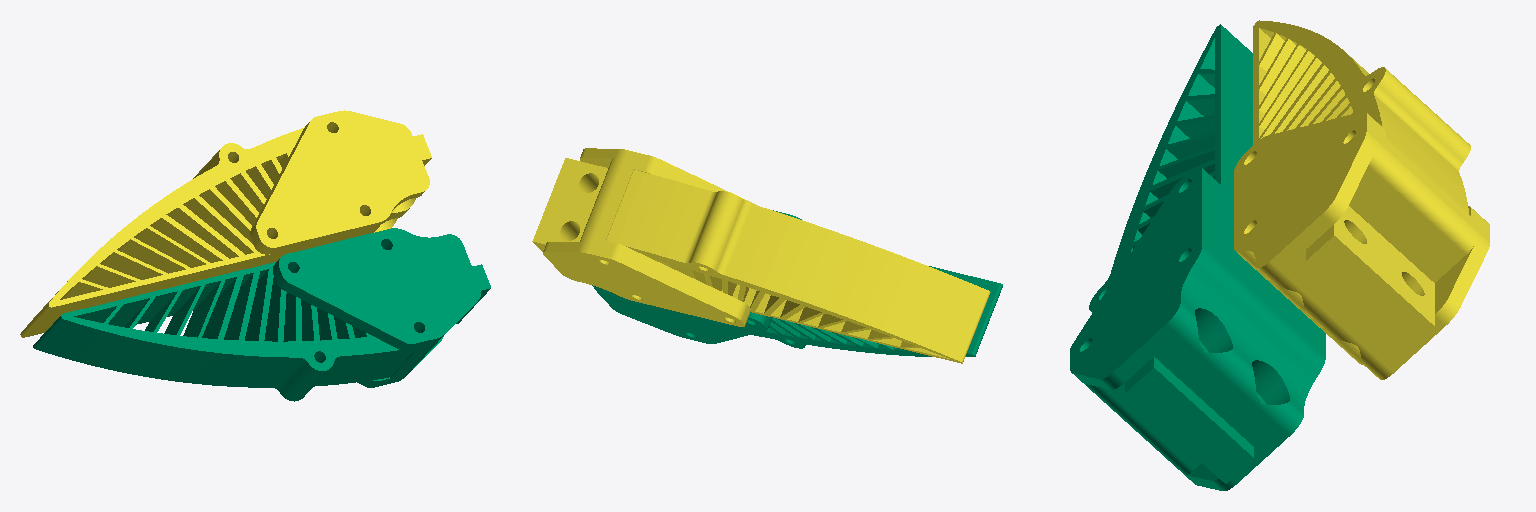
robot.urdf — panda:
<?xml version="1.0" encoding="utf-8"?>
<!-- =================================================================================== -->
<!-- |    This document was autogenerated by xacro from ./panda_arm_hand.urdf.xacro    | -->
<!-- |    EDITING THIS FILE BY HAND IS NOT RECOMMENDED                                 | -->
<!-- =================================================================================== -->
<robot name="panda" xmlns:xacro="http://www.ros.org/wiki/xacro">
  <link name="panda_link0">
    <inertial>
      <origin rpy="0 0 0" xyz="0.0 0.0 0.05"/>
      <mass value="4"/>
      <inertia ixx="0.4" ixy="0.0" ixz="0.0" iyy="0.4" iyz="0.0" izz="0.4"/>
    </inertial>
    <visual>
      <geometry>
        <mesh filename="package://panda_description/meshes/visual/link0.dae"/>
      </geometry>
    </visual>
    <collision>
      <geometry>
        <mesh filename="package://panda_description/meshes/collision/link0.stl"/>
      </geometry>
    </collision>
  </link>
  <link name="panda_link1">
    <inertial>
      <origin rpy="0 0 0" xyz="0.0 0.0 -0.07"/>
      <mass value="3"/>
      <inertia ixx="0.3" ixy="0.0" ixz="0.0" iyy="0.3" iyz="0.0" izz="0.3"/>
    </inertial>
    <visual>
      <geometry>
        <mesh filename="package://panda_description/meshes/visual/link1.dae"/>
      </geometry>
    </visual>
    <collision>
      <geometry>
        <mesh filename="package://panda_description/meshes/collision/link1.stl"/>
      </geometry>
    </collision>
  </link>
  <joint name="panda_joint1" type="revolute">
    <safety_controller k_position="100.0" k_velocity="40.0" soft_lower_limit="-2.8973" soft_upper_limit="2.8973"/>
    <origin rpy="0 0 0" xyz="0 0 0.333"/>
    <parent link="panda_link0"/>
    <child link="panda_link1"/>
    <axis xyz="0 0 1"/>
    <limit effort="87" lower="-2.8973" upper="2.8973" velocity="2.1750"/>
  </joint>
  <link name="panda_link2">
    <inertial>
      <origin rpy="0 0 0" xyz="0.0 -0.1 0.0"/>
      <mass value="3"/>
      <inertia ixx="0.3" ixy="0.0" ixz="0.0" iyy="0.3" iyz="0.0" izz="0.3"/>
    </inertial>
    <visual>
      <geometry>
        <mesh filename="package://panda_description/meshes/visual/link2.dae"/>
      </geometry>
    </visual>
    <collision>
      <geometry>
        <mesh filename="package://panda_description/meshes/collision/link2.stl"/>
      </geometry>
    </collision>
  </link>
  <joint name="panda_joint2" type="revolute">
    <safety_controller k_position="100.0" k_velocity="40.0" soft_lower_limit="-1.7628" soft_upper_limit="1.7628"/>
    <origin rpy="-1.57079632679 0 0" xyz="0 0 0"/>
    <parent link="panda_link1"/>
    <child link="panda_link2"/>
    <axis xyz="0 0 1"/>
    <limit effort="87" lower="-1.7628" upper="1.7628" velocity="2.1750"/>
  </joint>
  <link name="panda_link3">
    <inertial>
      <origin rpy="0 0 0" xyz="0.04 0 -0.05"/>
      <mass value="2"/>
      <inertia ixx="0.2" ixy="0.0" ixz="0.0" iyy="0.2" iyz="0.0" izz="0.2"/>
    </inertial>
    <visual>
      <geometry>
        <mesh filename="package://panda_description/meshes/visual/link3.dae"/>
      </geometry>
    </visual>
    <collision>
      <geometry>
        <mesh filename="package://panda_description/meshes/collision/link3.stl"/>
      </geometry>
    </collision>
  </link>
  <joint name="panda_joint3" type="revolute">
    <safety_controller k_position="100.0" k_velocity="40.0" soft_lower_limit="-2.8973" soft_upper_limit="2.8973"/>
    <origin rpy="1.57079632679 0 0" xyz="0 -0.316 0"/>
    <parent link="panda_link2"/>
    <child link="panda_link3"/>
    <axis xyz="0 0 1"/>
    <limit effort="87" lower="-2.8973" upper="2.8973" velocity="2.1750"/>
  </joint>
  <link name="panda_link4">
    <inertial>
      <origin rpy="0 0 0" xyz="-0.04 0.05 0"/>
      <mass value="2"/>
      <inertia ixx="0.2" ixy="0.0" ixz="0.0" iyy="0.2" iyz="0.0" izz="0.2"/>
    </inertial>
    <visual>
      <geometry>
        <mesh filename="package://panda_description/meshes/visual/link4.dae"/>
      </geometry>
    </visual>
    <collision>
      <geometry>
        <mesh filename="package://panda_description/meshes/collision/link4.stl"/>
      </geometry>
    </collision>
  </link>
  <joint name="panda_joint4" type="revolute">
    <safety_controller k_position="100.0" k_velocity="40.0" soft_lower_limit="-3.0718" soft_upper_limit="-0.0698"/>
    <origin rpy="1.57079632679 0 0" xyz="0.0825 0 0"/>
    <parent link="panda_link3"/>
    <child link="panda_link4"/>
    <axis xyz="0 0 1"/>
    <limit effort="87" lower="-3.0718" upper="-0.0698" velocity="2.1750"/>
  </joint>
  <link name="panda_link5">
    <inertial>
      <origin rpy="0 0 0" xyz="0 0 -0.15"/>
      <mass value="2"/>
      <inertia ixx="0.2" ixy="0.0" ixz="0.0" iyy="0.2" iyz="0.0" izz="0.2"/>
    </inertial>
    <visual>
      <geometry>
        <mesh filename="package://panda_description/meshes/visual/link5.dae"/>
      </geometry>
    </visual>
    <collision>
      <geometry>
        <mesh filename="package://panda_description/meshes/collision/link5.stl"/>
      </geometry>
    </collision>
  </link>
  <joint name="panda_joint5" type="revolute">
    <safety_controller k_position="100.0" k_velocity="40.0" soft_lower_limit="-2.8973" soft_upper_limit="2.8973"/>
    <origin rpy="-1.57079632679 0 0" xyz="-0.0825 0.384 0"/>
    <parent link="panda_link4"/>
    <child link="panda_link5"/>
    <axis xyz="0 0 1"/>
    <limit effort="12" lower="-2.8973" upper="2.8973" velocity="2.6100"/>
  </joint>
  <link name="panda_link6">
    <inertial>
      <origin rpy="0 0 0" xyz="0.06 0 0"/>
      <mass value="1.5"/>
      <inertia ixx="0.1" ixy="0.0" ixz="0.0" iyy="0.1" iyz="0.0" izz="0.1"/>
    </inertial>
    <visual>
      <geometry>
        <mesh filename="package://panda_description/meshes/visual/link6.dae"/>
      </geometry>
    </visual>
    <collision>
      <geometry>
        <mesh filename="package://panda_description/meshes/collision/link6.stl"/>
      </geometry>
    </collision>
  </link>
  <joint name="panda_joint6" type="revolute">
    <safety_controller k_position="100.0" k_velocity="40.0" soft_lower_limit="-0.0175" soft_upper_limit="3.7525"/>
    <origin rpy="1.57079632679 0 0" xyz="0 0 0"/>
    <parent link="panda_link5"/>
    <child link="panda_link6"/>
    <axis xyz="0 0 1"/>
    <limit effort="12" lower="-0.0175" upper="3.7525" velocity="2.6100"/>
  </joint>
  <link name="panda_link7">
    <inertial>
      <origin rpy="0 0 0" xyz="0 0 0.08"/>
      <mass value="0.5"/>
      <inertia ixx="0.05" ixy="0.0" ixz="0.0" iyy="0.05" iyz="0.0" izz="0.05"/>
    </inertial>
    <visual>
      <geometry>
        <mesh filename="package://panda_description/meshes/visual/link7.dae"/>
      </geometry>
    </visual>
    <collision>
      <geometry>
        <mesh filename="package://panda_description/meshes/collision/link7.stl"/>
      </geometry>
    </collision>
  </link>
  <joint name="panda_joint7" type="revolute">
    <safety_controller k_position="100.0" k_velocity="40.0" soft_lower_limit="-2.8973" soft_upper_limit="2.8973"/>
    <origin rpy="1.57079632679 0 0" xyz="0.088 0 0"/>
    <parent link="panda_link6"/>
    <child link="panda_link7"/>
    <axis xyz="0 0 1"/>
    <limit effort="12" lower="-2.8973" upper="2.8973" velocity="2.6100"/>
  </joint>
  <link name="panda_link8">
      <inertial>
        <origin rpy="0 0 0" xyz="0.0 0.0 0.0"/>
        <mass value="0.005"/>
        <inertia ixx="0.00003" ixy="0.0" ixz="0.0" iyy="0.00003" iyz="0.0" izz="0.00003"/>
      </inertial>
    </link>
    <joint name="panda_joint8" type="fixed">
      <origin rpy="0 0 0" xyz="0 0 0.107"/>
      <parent link="panda_link7"/>
      <child link="panda_link8"/>
      <axis xyz="0 0 0"/>
    </joint>
  <joint name="panda_hand_joint" type="fixed">
    <parent link="panda_link8"/>
    <child link="panda_hand"/>
    <origin rpy="0 0 -0.785398163397" xyz="0 0 0"/>
  </joint>
  <link name="panda_hand">
    <inertial>
      <origin rpy="0 0 0" xyz="0.0 0.0 0.0"/>
      <mass value="0.67893"/>
      <inertia ixx="0.01" ixy="0.0" ixz="0.0" iyy="0.01" iyz="0.0" izz="0.01"/>
    </inertial>
    <visual>
      <geometry>
        <mesh filename="package://panda_description/meshes/visual/hand.dae"/>
      </geometry>
    </visual>
    <collision>
      <geometry>
        <mesh filename="package://panda_description/meshes/collision/hand.stl"/>
      </geometry>
    </collision>
  </link>
  <link name="panda_leftfinger">
    <inertial>
      <origin rpy="0 0 0" xyz="0.0 0.0 0.0"/>
      <mass value="0.01053"/>
      <inertia ixx="0.001" ixy="0.0" ixz="0.0" iyy="0.001" iyz="0.0" izz="0.001"/>
    </inertial>
    <visual>
      <!-- <origin rpy="3.14159265359 0 0" xyz="0 0 0"/> -->
      <geometry>
        <mesh filename="package://panda_description/meshes/visual/finray.dae" scale="0.001 0.001 0.001"/>
      </geometry>
    </visual>
    <collision>
      <!-- <origin rpy="3.14159265359 0 0" xyz="0 0 0"/> -->
      <geometry>
        <mesh filename="package://panda_description/meshes/collision/finger.stl"/>
      </geometry>
    </collision>
  </link>
  <link name="panda_rightfinger">
    <inertial>
      <origin rpy="0 0 0" xyz="0.0 0.0 0.0"/>
      <mass value="0.01053"/>
      <inertia ixx="0.001" ixy="0.0" ixz="0.0" iyy="0.001" iyz="0.0" izz="0.001"/>
    </inertial>
    <visual>
      <origin rpy="0 0 3.14159265359" xyz="0 0 0"/>
      <geometry>
        <mesh filename="package://panda_description/meshes/visual/finray.dae" scale="0.001 0.001 0.001"/>
      </geometry>
    </visual>
    <collision>
      <origin rpy="0 0 3.14159265359" xyz="0 0 0"/>
      <geometry>
        <mesh filename="package://panda_description/meshes/collision/finger.stl"/>
      </geometry>
    </collision>
  </link>
  <joint name="panda_finger_joint1" type="prismatic">
    <parent link="panda_hand"/>
    <child link="panda_leftfinger"/>
    <origin rpy="0 0 0" xyz="0 0 0.0584"/>
    <axis xyz="0 1 0"/>
    <limit effort="20" lower="0.0" upper="0.04" velocity="0.2"/>
  </joint>
  <joint name="panda_finger_joint2" type="prismatic">
    <parent link="panda_hand"/>
    <child link="panda_rightfinger"/>
    <origin rpy="0 0 0" xyz="0 0 0.0584"/>
    <axis xyz="0 -1 0"/>
    <limit effort="20" lower="0.0" upper="0.04" velocity="0.2"/>
    <mimic joint="panda_finger_joint1"/>
  </joint>
</robot>

--- Facts derived from the render (not from the file) ---
3 views of the same robot in one strip: view 1: azimuth 30°, elevation 25°; view 2: azimuth 150°, elevation 25°; view 3: azimuth 270°, elevation 25° (orthographic).
Model panda with 12 links and 11 joints (7 revolute, 2 prismatic, 2 fixed), rooted at panda_link0, posed joints at zero except 1 at the middle of their limits (panda_joint4 = -1.57).
Links seen in each view (by area): view 1: panda_leftfinger, panda_rightfinger; view 2: panda_rightfinger, panda_leftfinger; view 3: panda_rightfinger, panda_leftfinger.
Boxes of the visible links, left/top/right/bottom form: panda_leftfinger: left=33, top=228, right=490, bottom=401; panda_rightfinger: left=20, top=110, right=431, bottom=337; panda_rightfinger: left=532, top=148, right=990, bottom=363; panda_leftfinger: left=592, top=210, right=1002, bottom=356; panda_rightfinger: left=1234, top=20, right=1489, bottom=379; panda_leftfinger: left=1070, top=24, right=1325, bottom=490.
Size in the robot's own frame: 0.104 by 0.0622 by 0.0571 metres.
2 mesh visuals loaded from 10 distinct referenced files (1 Collada DAE); not drawn: 9 (reference not matched to a file when rendering).